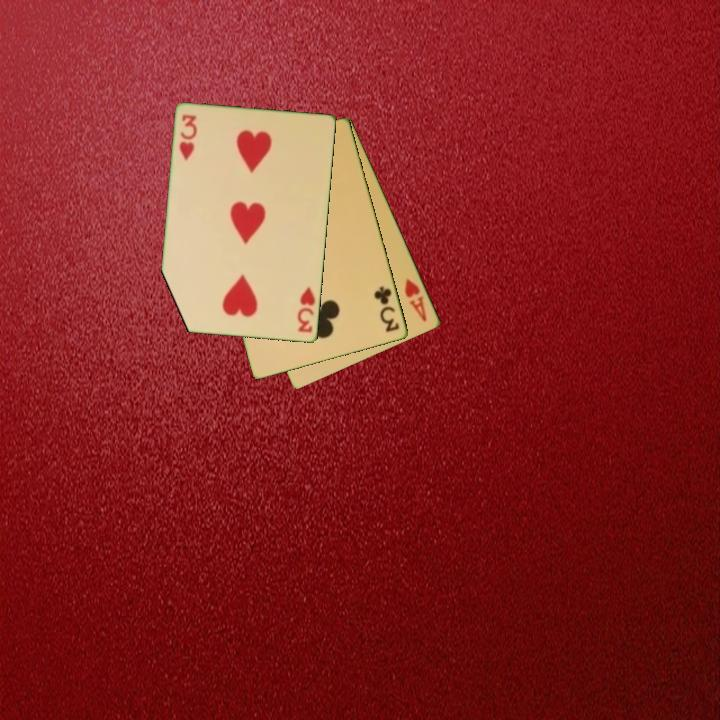3c: (371, 283, 402, 335)
3h: (294, 283, 318, 336), (176, 111, 200, 164)
Ah: (401, 275, 430, 325)
